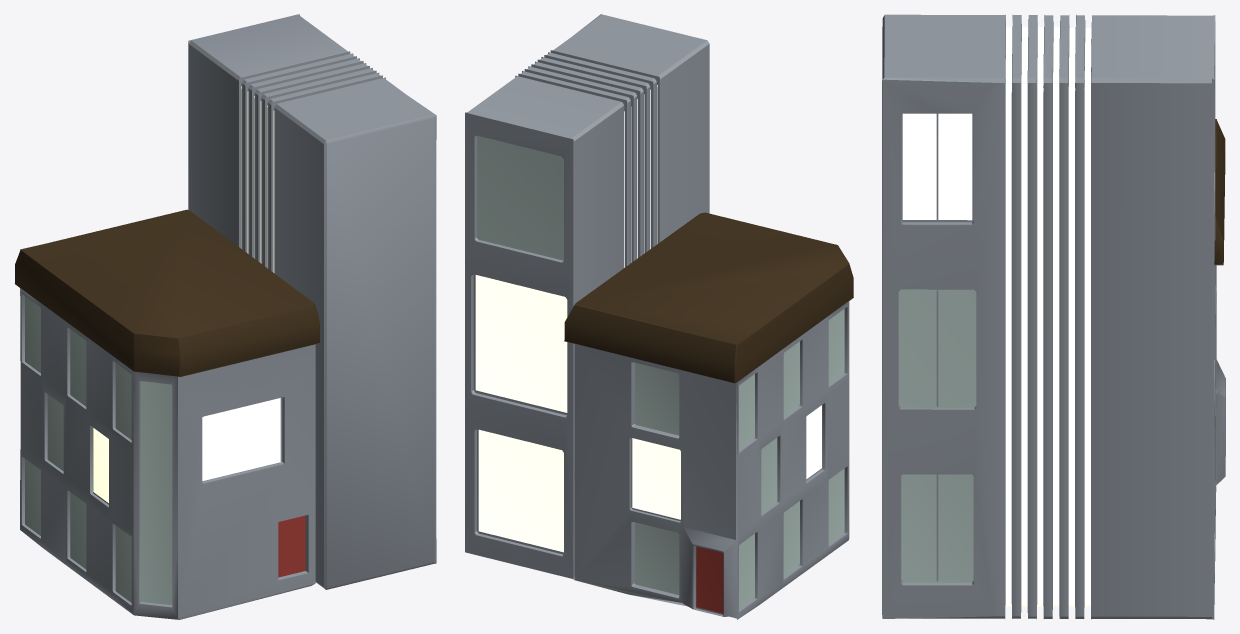
The model's file is building 105.fbx.
3 views of the same model, side by side, from view 1: azimuth 30°, elevation 25°; view 2: azimuth 150°, elevation 25°; view 3: azimuth 270°, elevation 25° (orthographic). The views are drawn at different scales.
Parts seen in each view (by area): view 1: BUILDING.105; view 2: BUILDING.105; view 3: BUILDING.105.
Boxes of the visible parts, x1=… form: BUILDING.105: x1=15, y1=14, x2=436, y2=619; BUILDING.105: x1=465, y1=14, x2=853, y2=619; BUILDING.105: x1=882, y1=14, x2=1225, y2=619.
Size of the model in its own units: 196 by 301 by 172.
